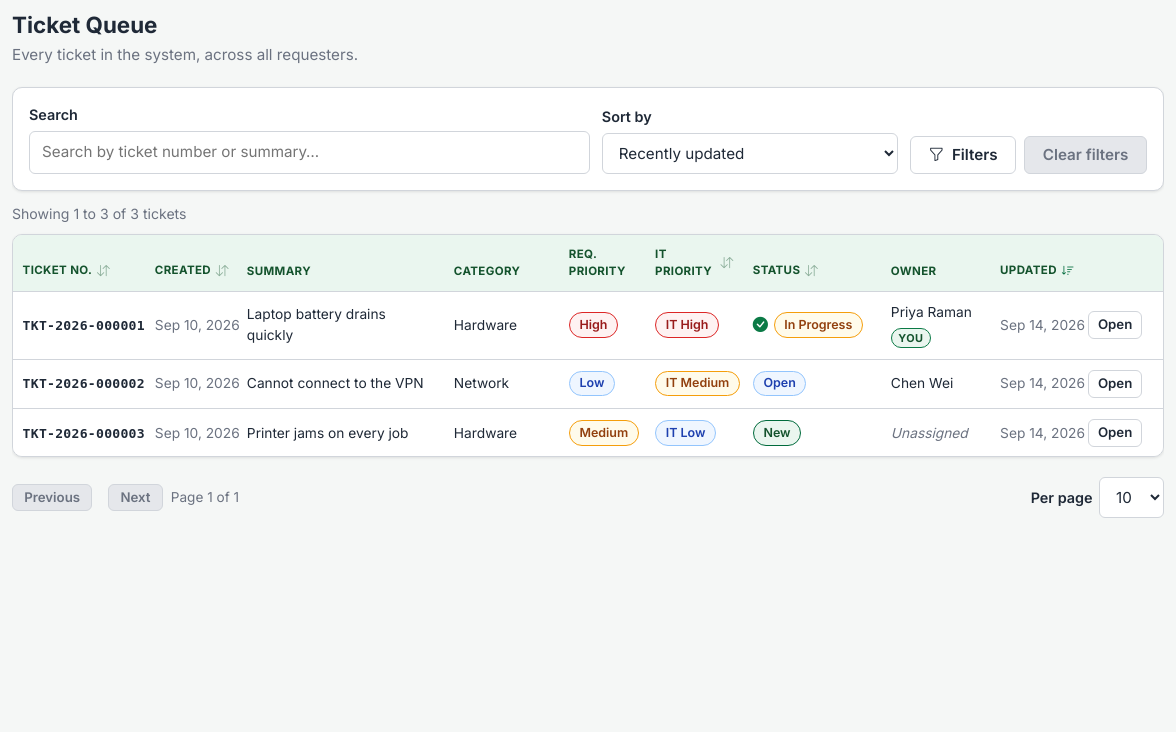
Scenario: StaffTicketQueue — toolbar (UI-11, AC-17) › debounces the search and re-queries with the term
Expected: the table with test id "queue-table" is shown, [13,235,1163,456]
Type "VPN" into the search field labelled "Search". click: (309, 153)
box: [29,132,590,174]
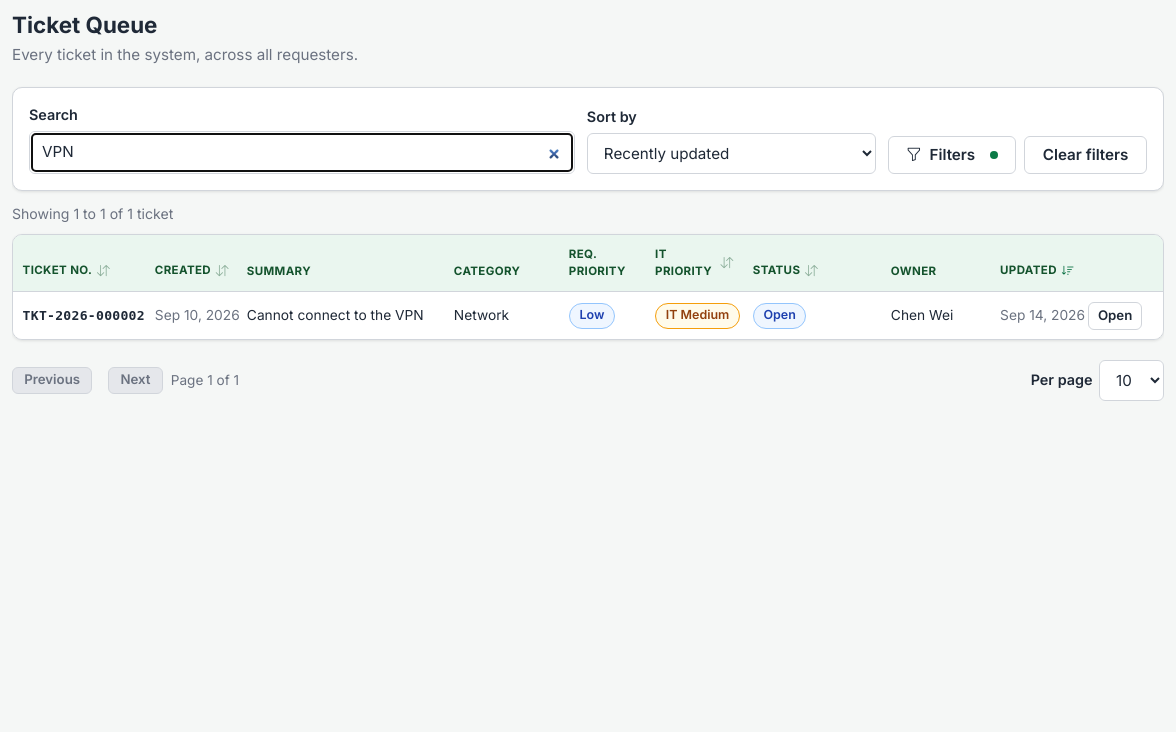
Expected: the text "Cannot connect to the VPN" is shown, [247,306,435,326]
Now the text "Laptop battery drains quickly" is gone
